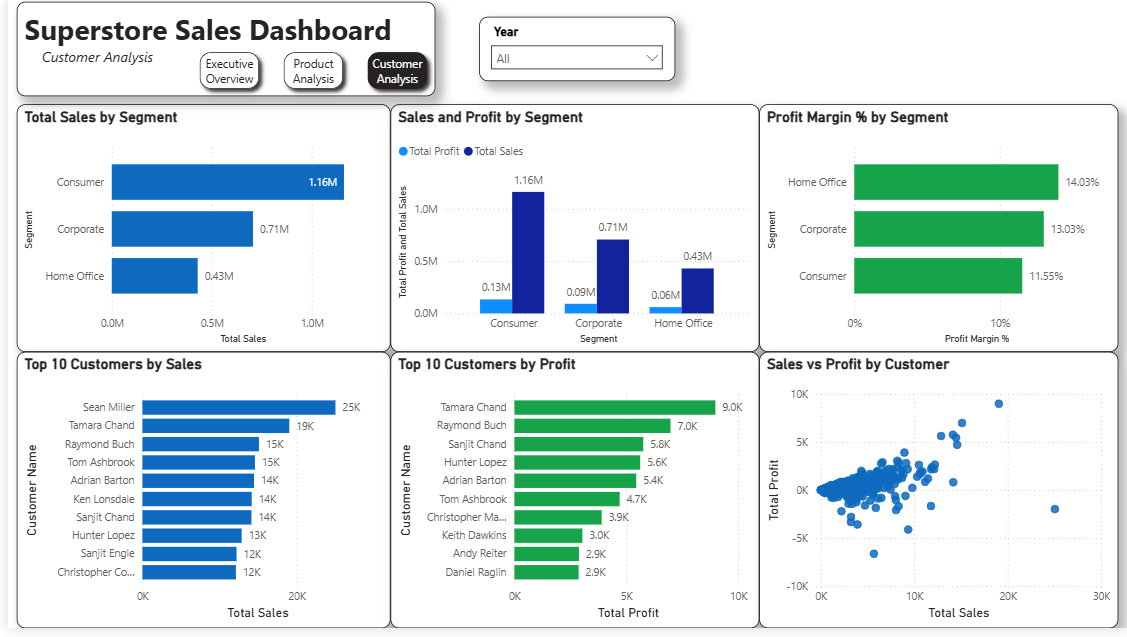

Layout of this report page (visuals, bound fields, positions):
{"tool":"powerbi","page":{"name":"Customer Analysis","canvas":[1280,720],"ordinal":2},"visuals":[{"type":"clusteredBarChart","fields":{"Y":["Superstore.Total Sales"],"Category":["Superstore.Segment"]},"box":[10,121.4,427.1,282.9],"z":0},{"type":"clusteredColumnChart","title":"Sales and Profit by Segment","fields":{"Category":["Superstore.Segment"],"Y":["Superstore.Total Profit","Superstore.Total Sales"]},"box":[437.1,121.4,421.4,282.9],"z":1000},{"type":"clusteredBarChart","fields":{"Y":["Superstore.Profit Margin %"],"Category":["Superstore.Segment"]},"box":[858.6,121.4,410,282.9],"z":2000},{"type":"clusteredBarChart","title":"Top 10 Customers by Sales","fields":{"Y":["Superstore.Total Sales"],"Category":["Superstore.Customer Name"]},"box":[10,404.3,427.1,315.7],"z":3000},{"type":"clusteredBarChart","title":"Top 10 Customers by Profit","fields":{"Y":["Superstore.Total Profit"],"Category":["Superstore.Customer Name"]},"box":[437.1,404.3,421.4,315.7],"z":4000},{"type":"scatterChart","title":"Sales vs Profit by Customer","fields":{"X":["Superstore.Total Sales"],"Y":["Superstore.Total Profit"],"Category":["Superstore.Customer Name"]},"box":[858.6,404.3,410,315.7],"z":5000},{"type":"slicer","fields":{"Values":["Superstore.Year"]},"box":[538.7,22.1,223.7,73.7],"z":6000},{"type":"textbox","box":[10,4.3,478.5,108],"z":7000},{"type":"pageNavigator","box":[210,52.9,278.5,60.1],"z":8000}]}

Visuals, with their boxes in screenshot pixels (x1, y1, x2, y2), scaled from the page's 1280x720 canvas onto the 1127x637 screenshot:
clusteredBarChart - Superstore.Total Sales x Superstore.Segment: 9, 107, 385, 358
"Sales and Profit by Segment" clusteredColumnChart: 385, 107, 756, 358
clusteredBarChart - Superstore.Profit Margin % x Superstore.Segment: 756, 107, 1117, 358
"Top 10 Customers by Sales" clusteredBarChart: 9, 358, 385, 636
"Top 10 Customers by Profit" clusteredBarChart: 385, 358, 756, 636
"Sales vs Profit by Customer" scatterChart: 756, 358, 1117, 636
slicer - Superstore.Year: 474, 20, 671, 85
textbox: 9, 4, 430, 99
pageNavigator: 185, 47, 430, 100
